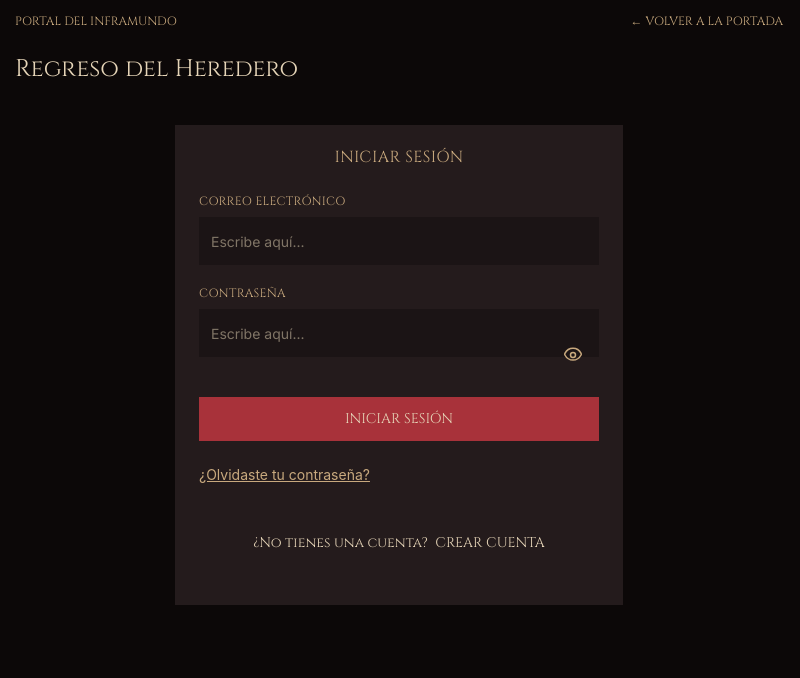
it: shows the reason when the sign-in fails and lets the user retry
Type "alma@example.com" into the field labelled "Correo electrónico" at coordinates (399, 241), box [199,217,599,265]
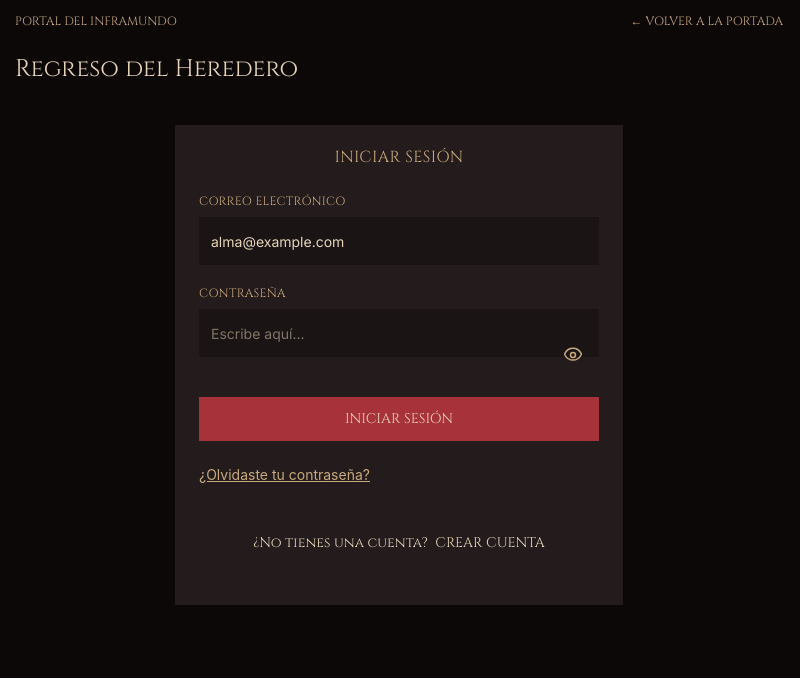
Type "Mala1234" into the password field labelled "Contraseña" at coordinates (399, 333), box [199,309,599,357]
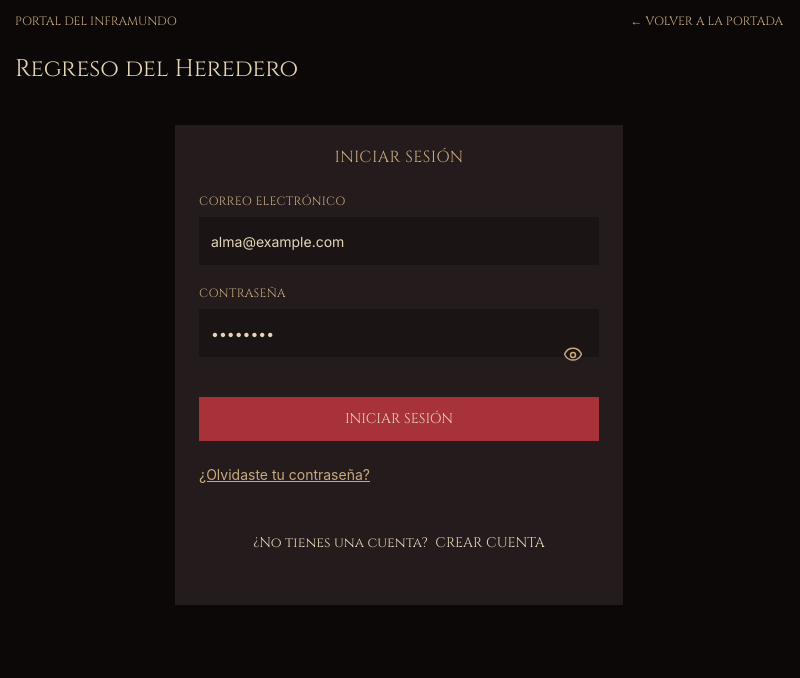
Click the button "Iniciar sesión" at coordinates (399, 419), box [199,397,599,441]
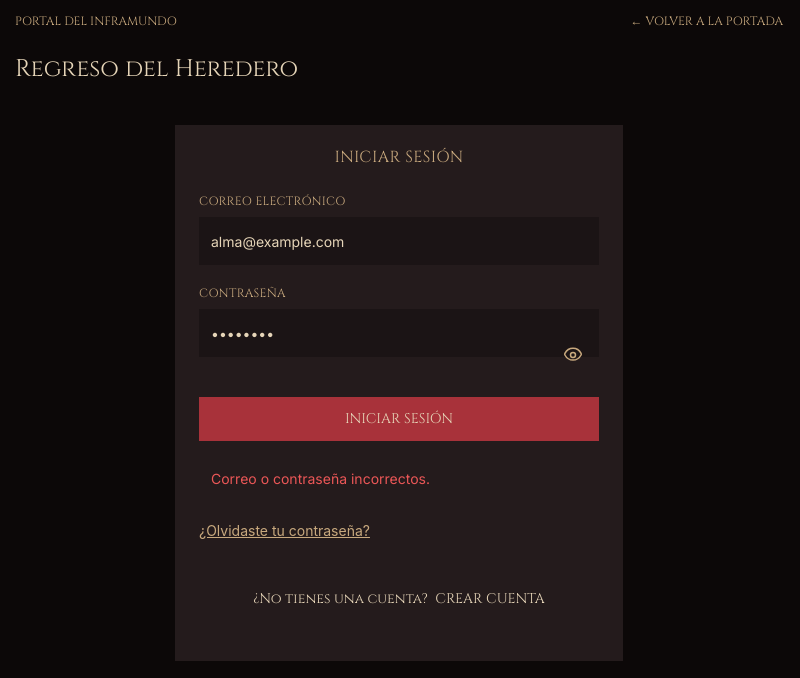
Expected: the message reads "Correo o contraseña incorrectos.", [211,470,430,487]
Click the button "Iniciar sesión" at coordinates (399, 419), box [199,397,599,441]
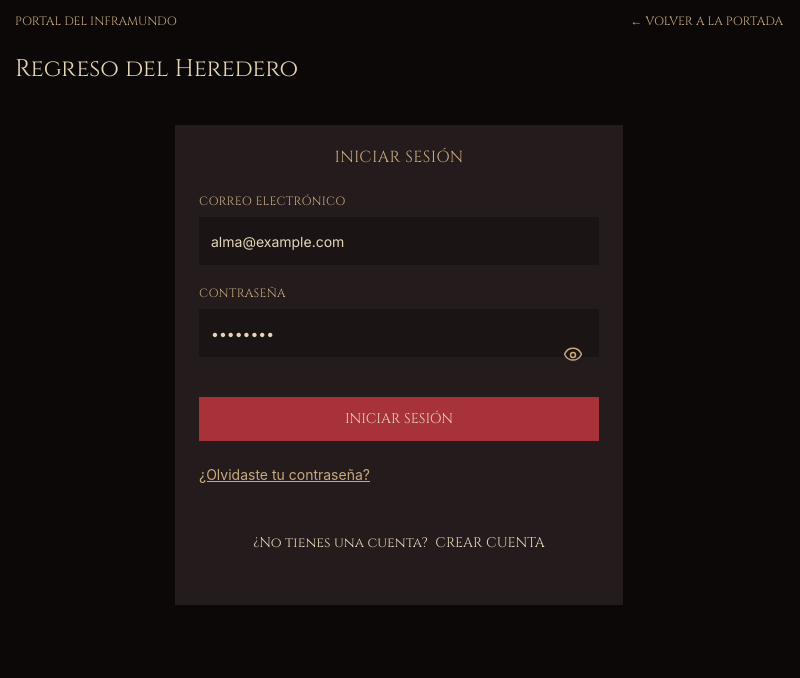
Expected: the text "Correo o contraseña incorrectos." is gone
